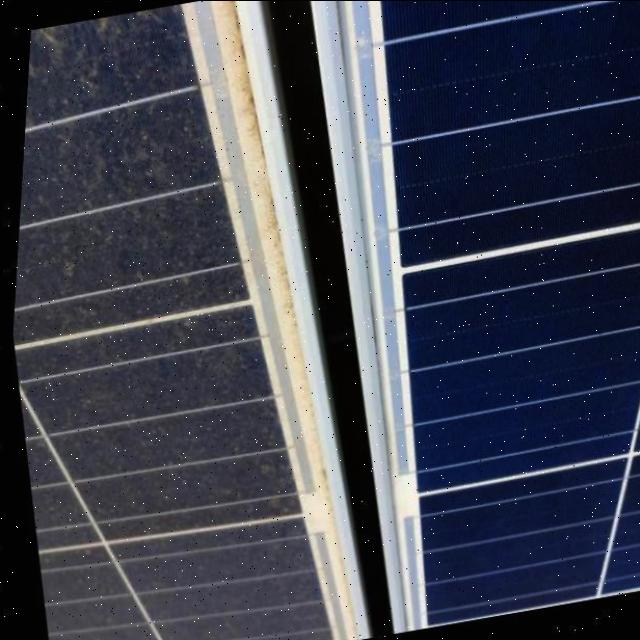Surface Contaminant: (9, 4, 334, 640)
